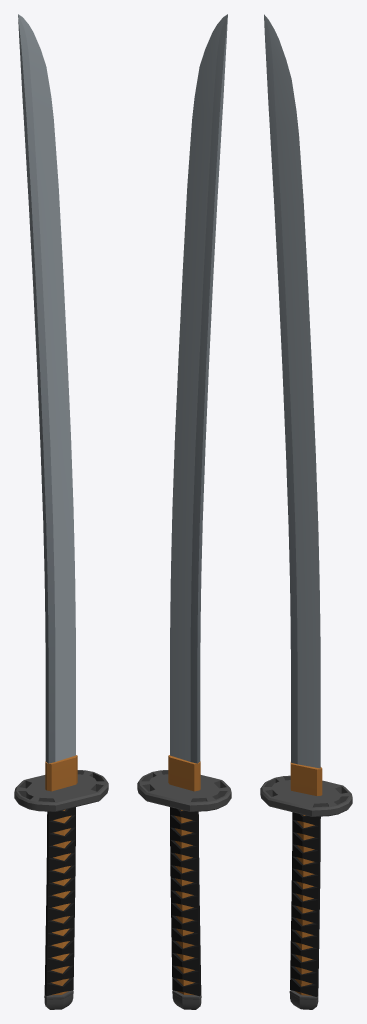
File: SM_Sword09_Katana_1.fbx
3 views of the same model, side by side, from view 1: azimuth 30°, elevation 25°; view 2: azimuth 150°, elevation 25°; view 3: azimuth 330°, elevation 25° (orthographic). The views are drawn at different scales.
Parts seen in each view (by area): view 1: Cube.433, Torus.042, Cylinder.527, Cylinder.526, Sphere.153; view 2: Cube.433, Torus.042, Cylinder.527, Cylinder.526, Sphere.153; view 3: Cube.433, Torus.042, Cylinder.527, Cylinder.526, Sphere.153.
Boxes of the visible parts, x1,y1,x2,y2 form: Cube.433: (18, 14, 75, 763); Torus.042: (44, 807, 75, 996); Cylinder.527: (14, 770, 108, 811); Cylinder.526: (45, 755, 77, 791); Sphere.153: (44, 990, 73, 1009); Cube.433: (170, 14, 227, 763); Torus.042: (170, 807, 201, 996); Cylinder.527: (137, 770, 231, 811); Cylinder.526: (168, 755, 200, 791); Sphere.153: (172, 990, 201, 1009); Cube.433: (264, 14, 320, 768); Torus.042: (290, 812, 320, 996); Cylinder.527: (260, 775, 352, 816); Cylinder.526: (290, 762, 322, 795); Sphere.153: (289, 990, 318, 1009).
Size of the model in its own units: 0.0808 by 0.8984 by 0.0541.
